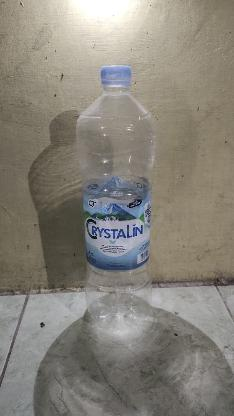Plastic Bottle: (75, 64, 157, 320)
